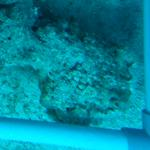dead: (3, 8, 136, 124)
